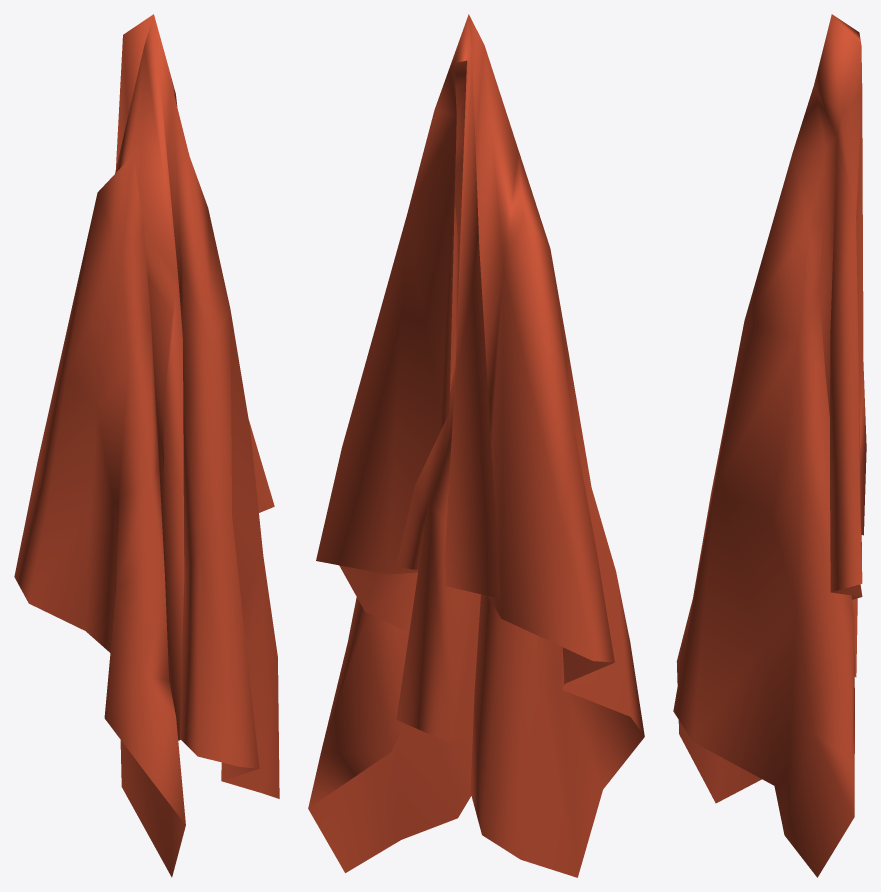
Rendered from towel_wall.dae.
The picture shows the model from 3 angles, left to right: view 1: azimuth 30°, elevation 25°; view 2: azimuth 150°, elevation 25°; view 3: azimuth 270°, elevation 25°; orthographic projection. The views are drawn at different scales.
Visible parts, largest first — view 1: Towel; view 2: Towel; view 3: Towel.
Boxes of the visible parts, bbox=[...] form: Towel: bbox=[14, 14, 279, 877]; Towel: bbox=[308, 14, 644, 877]; Towel: bbox=[673, 14, 866, 877].
Size of the model in its own units: 0.4132 by 0.265 by 1.22.
